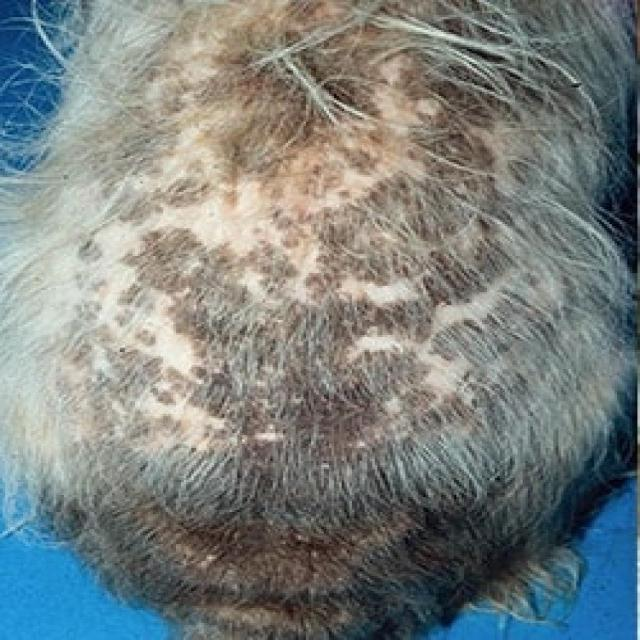allergic dermatitis: (75, 88, 531, 454)
